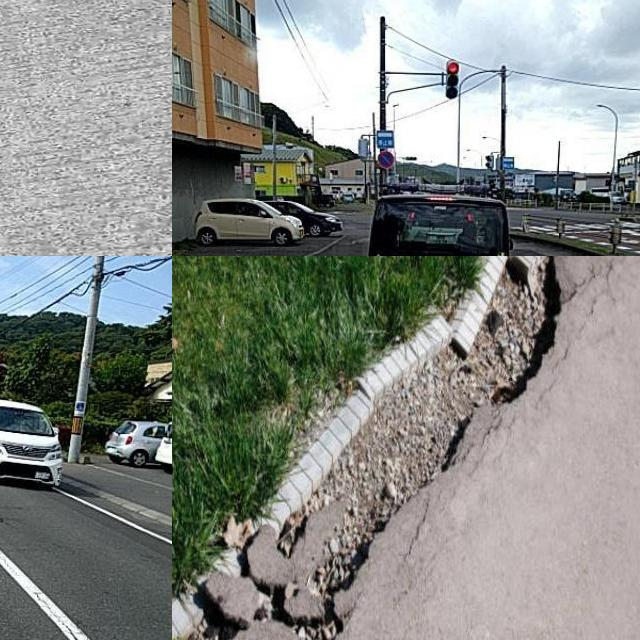Pinggir: (172, 256, 592, 640)
Sambungan: (0, 0, 172, 256)
